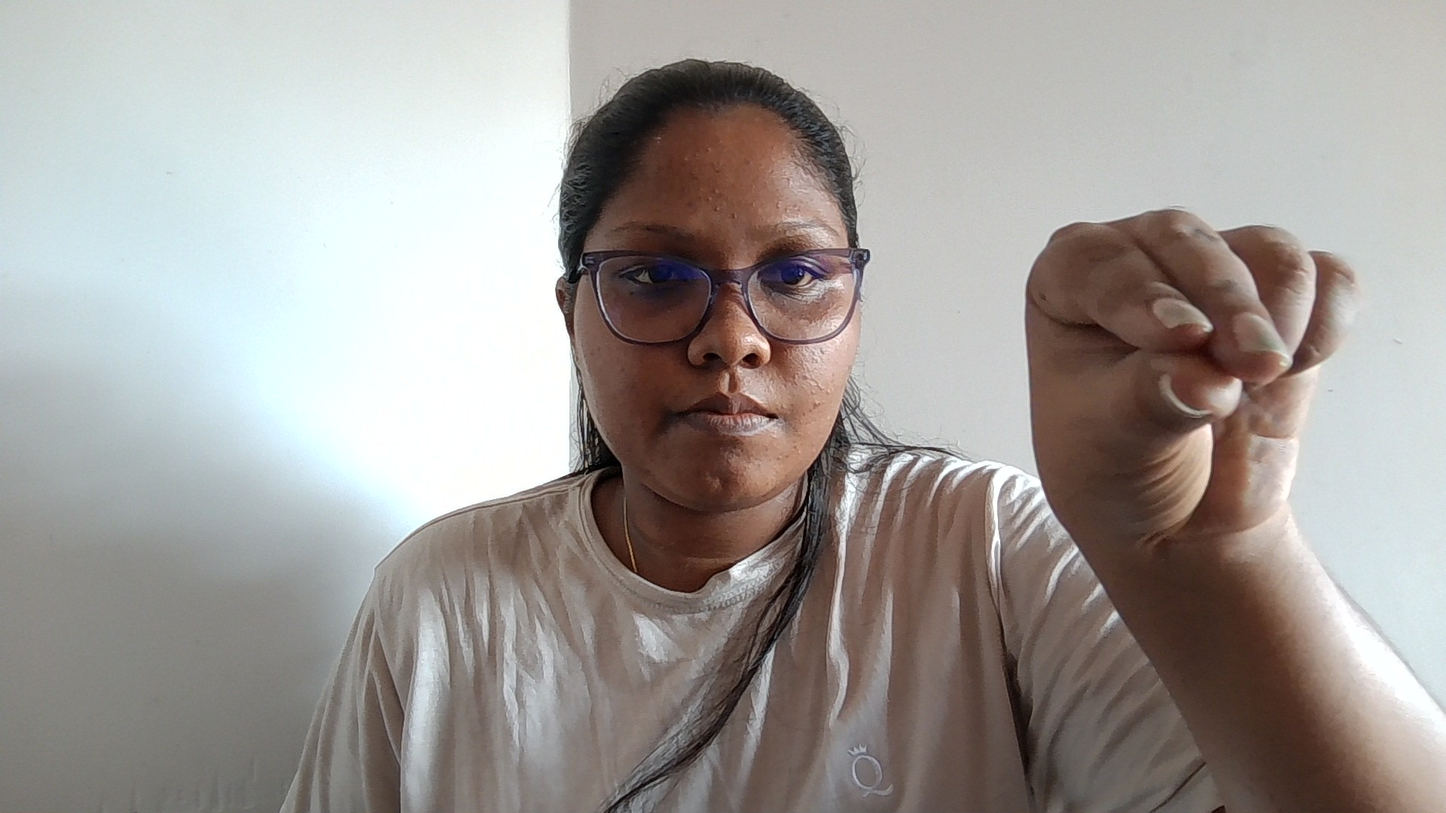No: (966, 159, 1446, 663)
